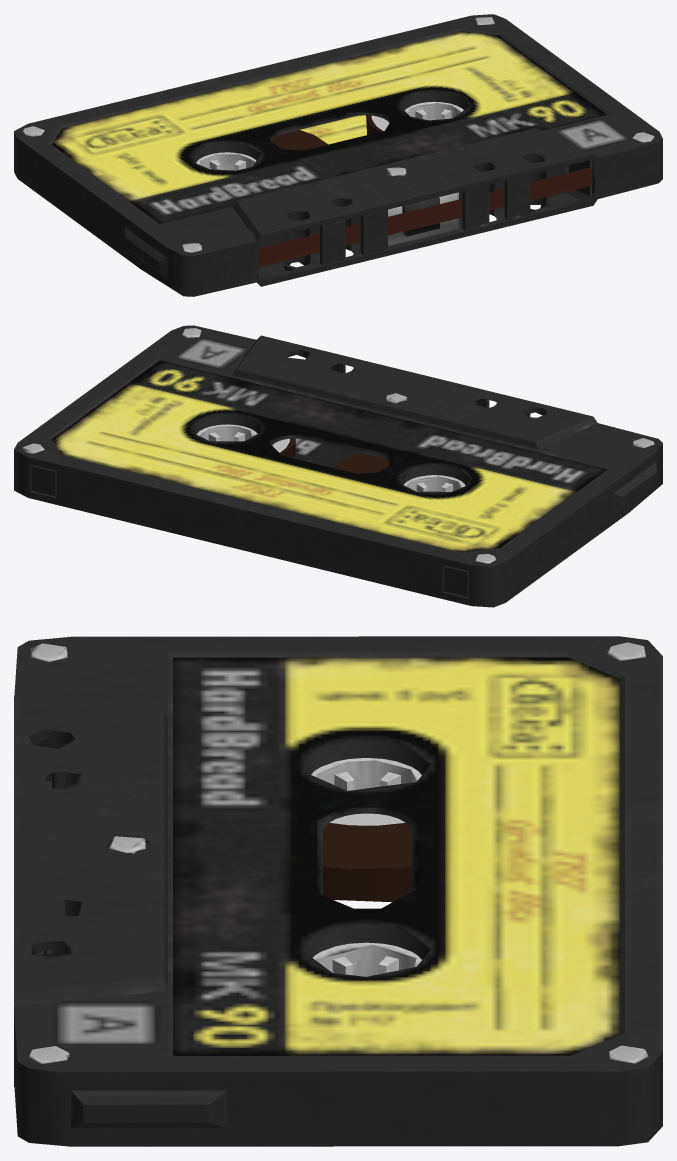
The model's file is cassette.glb.
3 renders of one model, top to bottom at view 1: azimuth 30°, elevation 25°; view 2: azimuth 150°, elevation 25°; view 3: azimuth 270°, elevation 25°, orthographic. The views are drawn at different scales.
Visible parts, largest first — view 1: Object_4, Object_3; view 2: Object_4, Object_3; view 3: Object_4, Object_3.
Part boxes in pixels (box(x1,y1,x2,y2)): Object_4: box(14, 14, 662, 296); Object_3: box(271, 115, 382, 150); Object_4: box(14, 325, 662, 607); Object_3: box(280, 438, 389, 473); Object_4: box(14, 636, 662, 1146); Object_3: box(323, 822, 411, 902).
Bounding box in the file's own units: 0.1021 × 0.0104 × 0.063.
3 materials, 2 textured.
